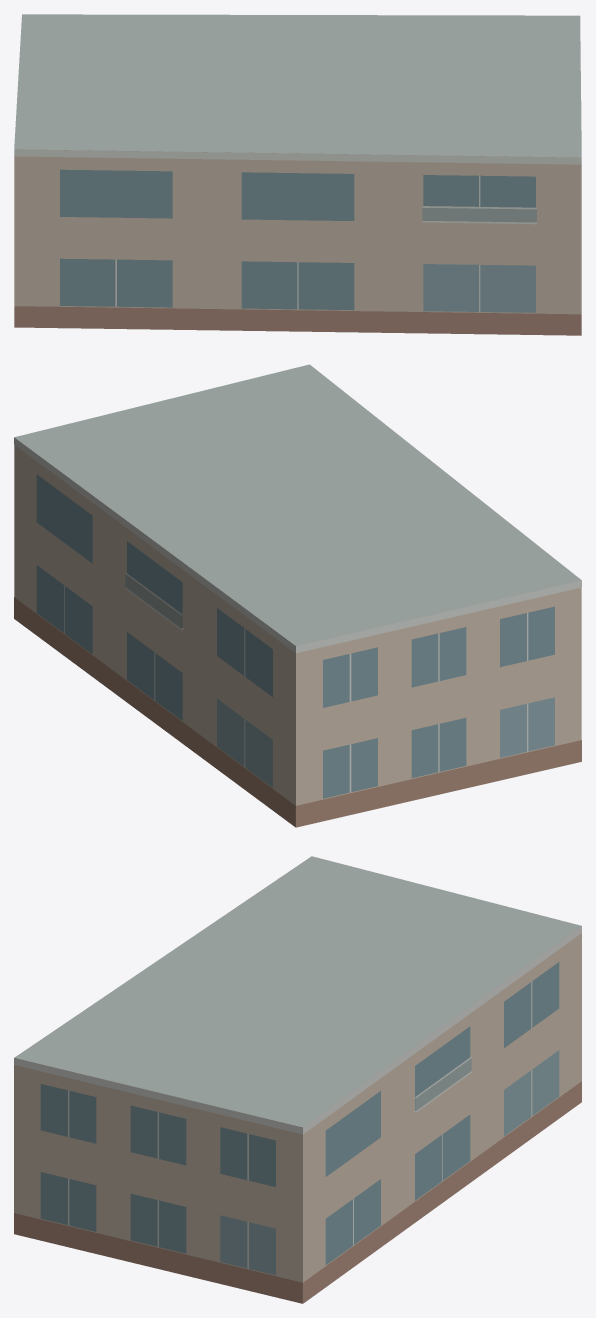
The model's file is survey-upis-32639974.glb.
The picture shows the model from 3 angles, top to bottom: view 1: azimuth 30°, elevation 25°; view 2: azimuth 150°, elevation 25°; view 3: azimuth 270°, elevation 25°; orthographic projection. The views are drawn at different scales.
Parts seen in each view (by area): view 1: survey-upis-32639974.tmp; view 2: survey-upis-32639974.tmp; view 3: survey-upis-32639974.tmp.
Boxes of the visible parts, x1,y1,x2,y2 form: survey-upis-32639974.tmp: (14, 14, 581, 335); survey-upis-32639974.tmp: (14, 364, 581, 827); survey-upis-32639974.tmp: (14, 856, 581, 1303).
Size of the model in its own units: 20.14 by 6.1 by 17.81.
